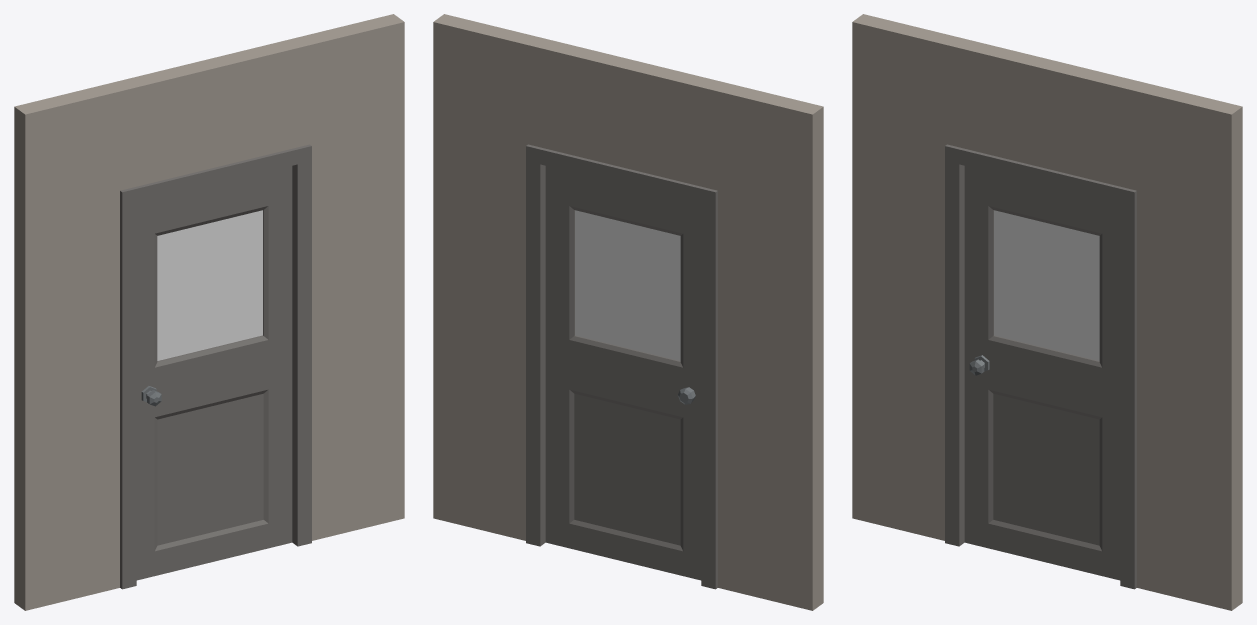
Rendered from SM_Bldg_City_InteriorWall_Door.fbx.
3 renders of one model, left to right at view 1: azimuth 30°, elevation 25°; view 2: azimuth 150°, elevation 25°; view 3: azimuth 330°, elevation 25°, orthographic.
Parts seen in each view (by area): view 1: SM_Bldg_City_InteriorWall_Door, SM_Bldg_City_InteriorWall_Door_Door; view 2: SM_Bldg_City_InteriorWall_Door, SM_Bldg_City_InteriorWall_Door_Door; view 3: SM_Bldg_City_InteriorWall_Door, SM_Bldg_City_InteriorWall_Door_Door.
Boxes of the visible parts, x1,y1,x2,y2 form: SM_Bldg_City_InteriorWall_Door: [14, 14, 404, 610]; SM_Bldg_City_InteriorWall_Door_Door: [136, 166, 292, 580]; SM_Bldg_City_InteriorWall_Door: [433, 14, 823, 610]; SM_Bldg_City_InteriorWall_Door_Door: [545, 166, 701, 580]; SM_Bldg_City_InteriorWall_Door: [852, 14, 1242, 610]; SM_Bldg_City_InteriorWall_Door_Door: [964, 166, 1120, 580].
Size of the model in its own units: 200 by 250 by 16.17.
